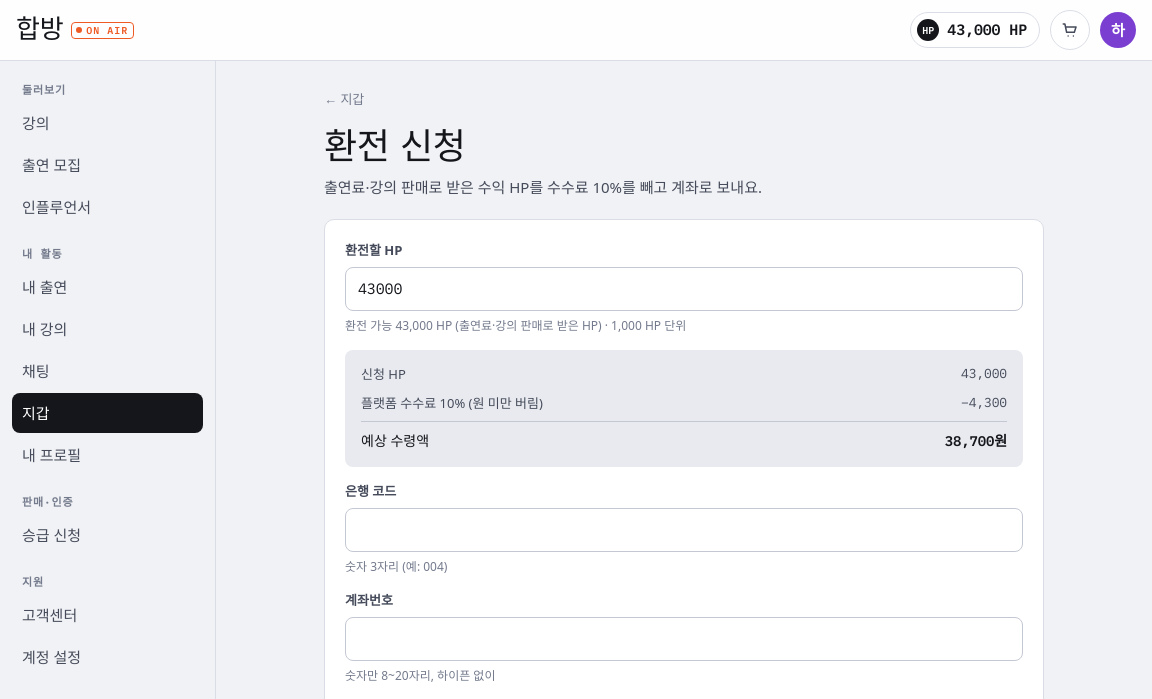
환전 신청 › 신청하면 서버가 확정한 금액과 마스킹 계좌를 결과로 보여 주고 지갑을 다시 불러온다
Type "004" into the field labelled "은행 코드" at (684,530), box 345,508 -> 1023,552
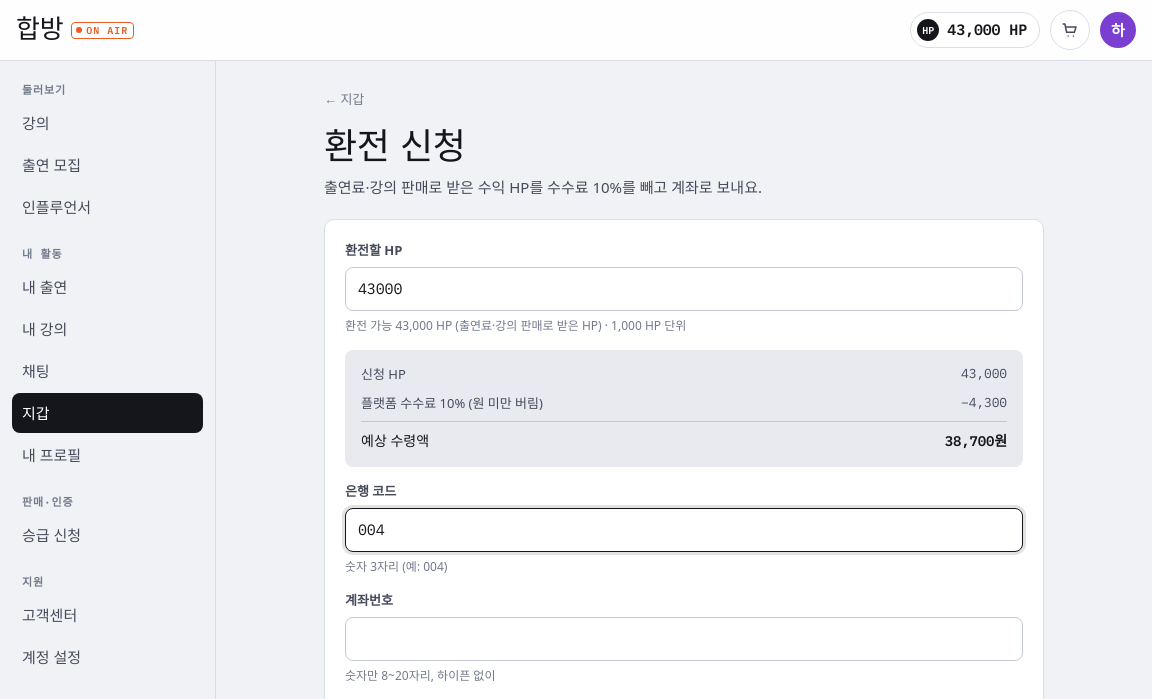
Type "1234-5678-9012" into the field labelled "계좌번호" at (684,639), box 345,617 -> 1023,661
(page scrolled)
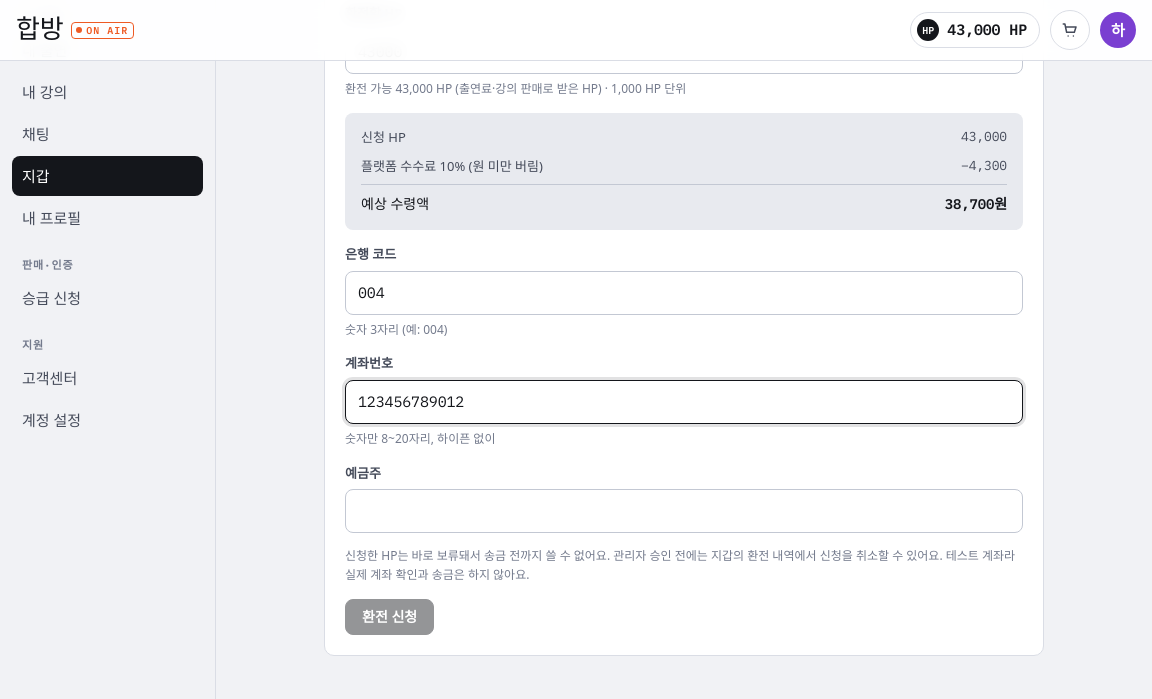
Type "  홍길동 " into the field labelled "예금주" at (684,511), box 345,489 -> 1023,533
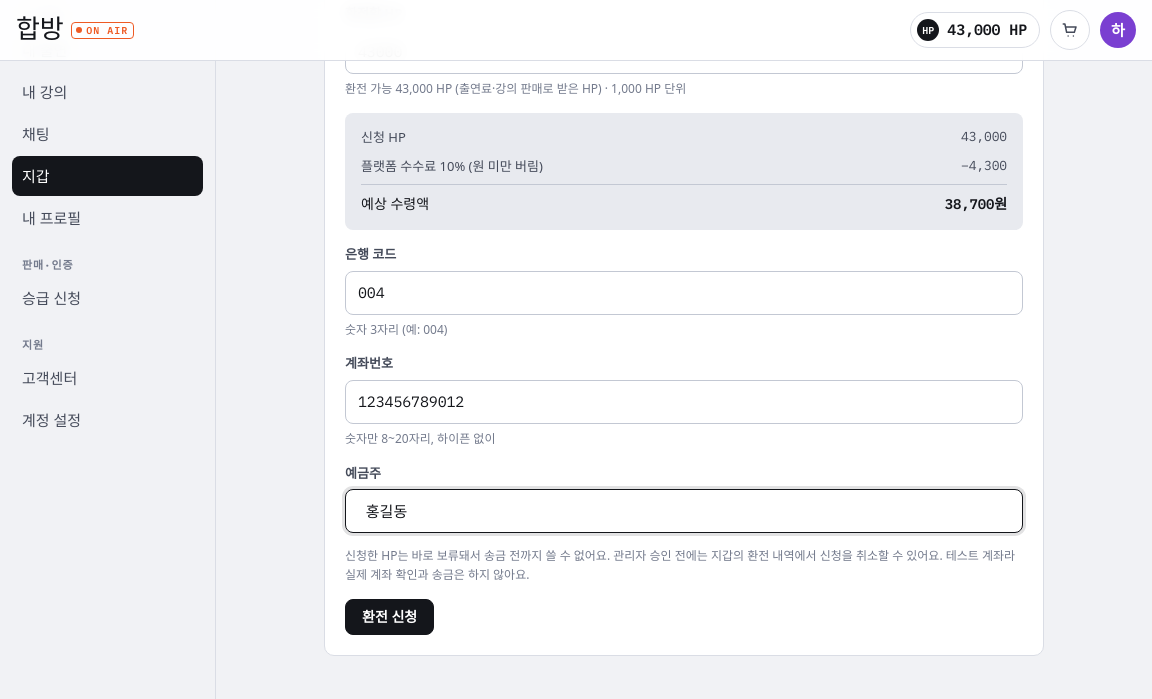
Click the button "환전 신청" at (390,617), box 345,598 -> 434,635
(page scrolled)
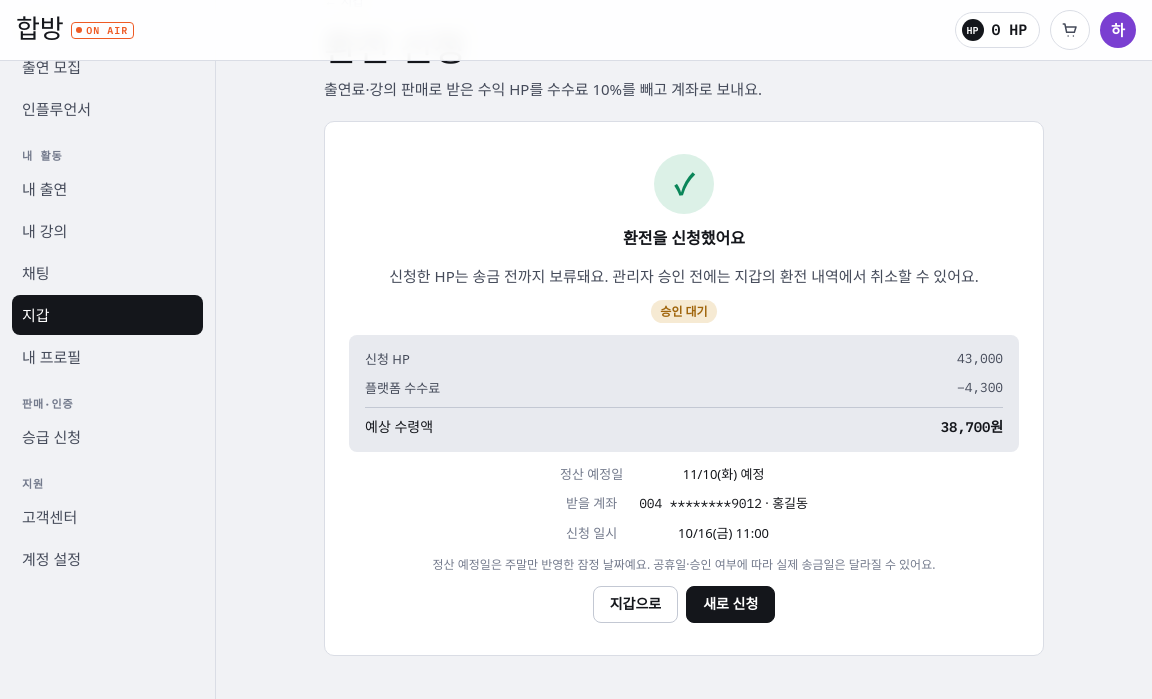
expect the text "승인 대기" is shown: met, box 651,300 -> 717,323
expect the text "11/10(화) 예정" is shown: met, box 683,465 -> 764,483
expect the text "004 ********9012" is shown: met, box 639,495 -> 762,512
Click the link "지갑으로" at (635,604), box 593,586 -> 678,623
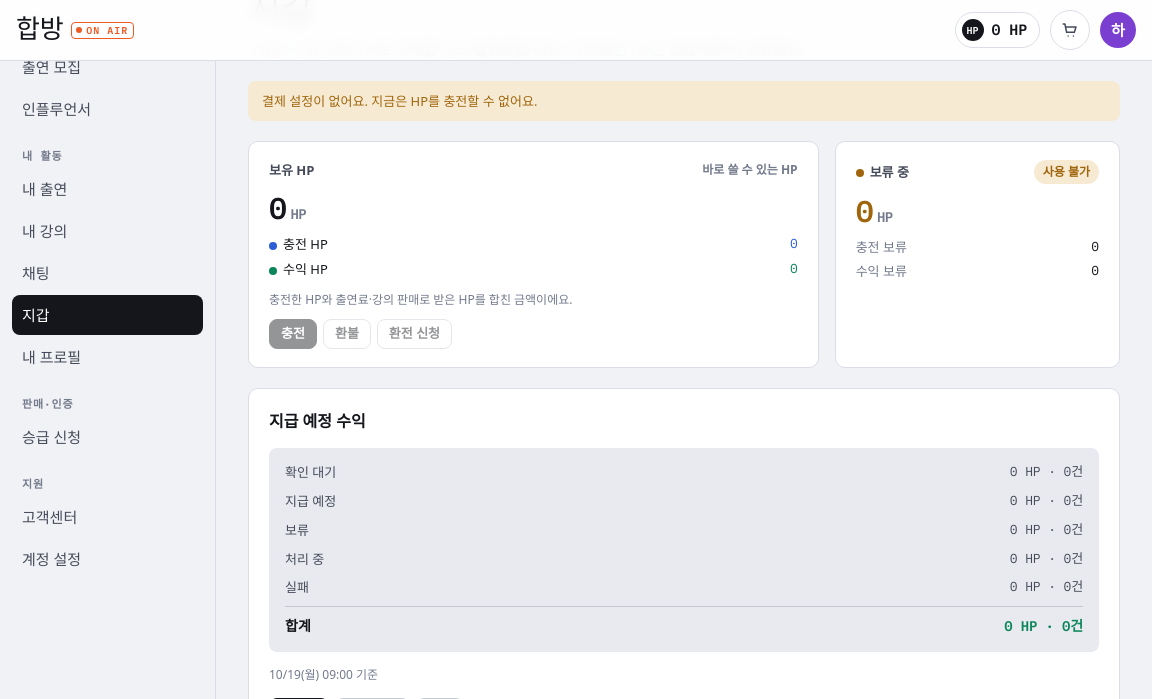
expect the text "0" in the row of "수익 HP" is shown: met, box 790,260 -> 798,277
